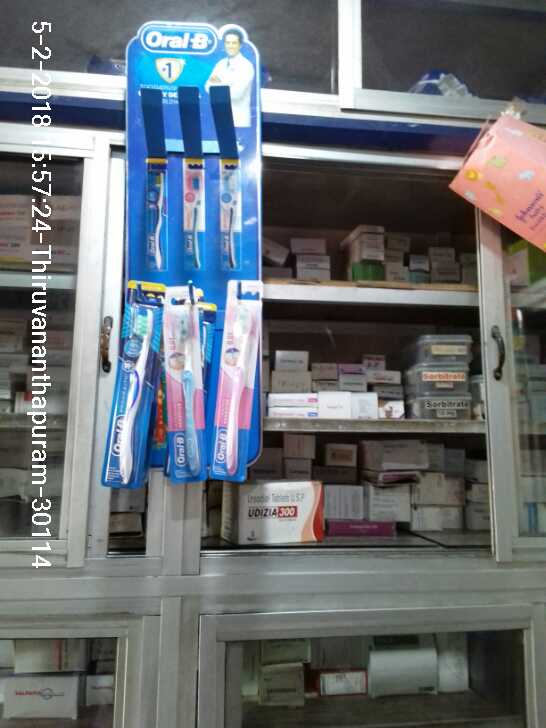oralb: (108, 279, 159, 484), (211, 281, 263, 482), (159, 284, 209, 479)
